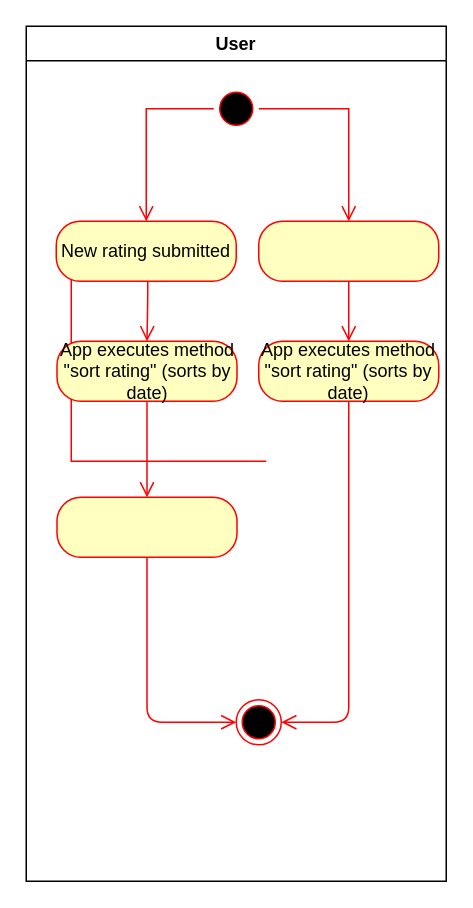
This 473x908 diagram has some shape labels left out. The shapes that lost their labels are listed below. From the top down, each one's centre as x and y in pixels, then its label:
At pixel 348 250: "All ratings or all user ratings gets clicked".
At pixel 146 526: "App redirects to all user ratings".
